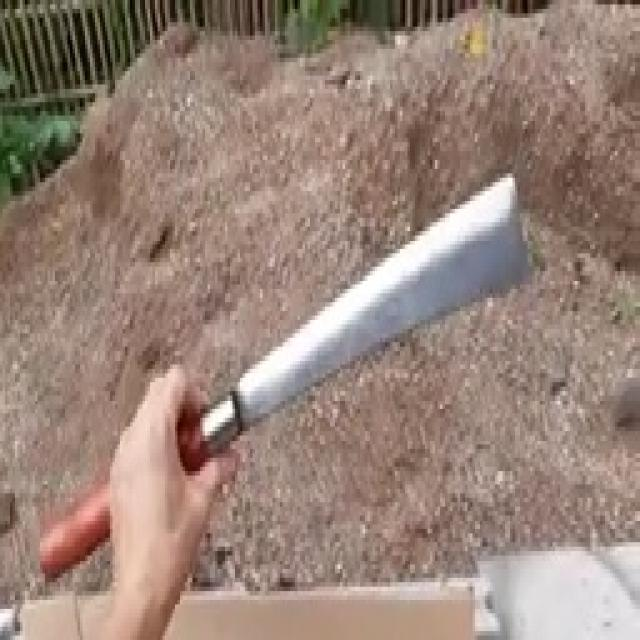eto: (36, 175, 533, 580)
